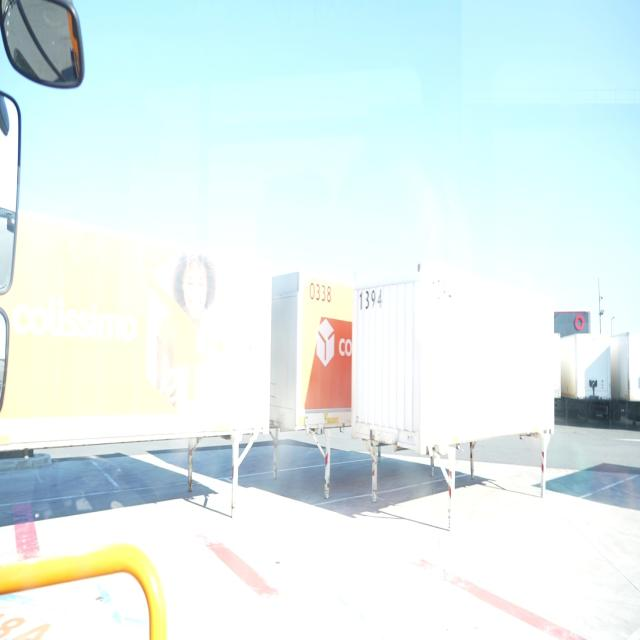Code: (308, 276, 335, 312), (356, 284, 384, 317)
